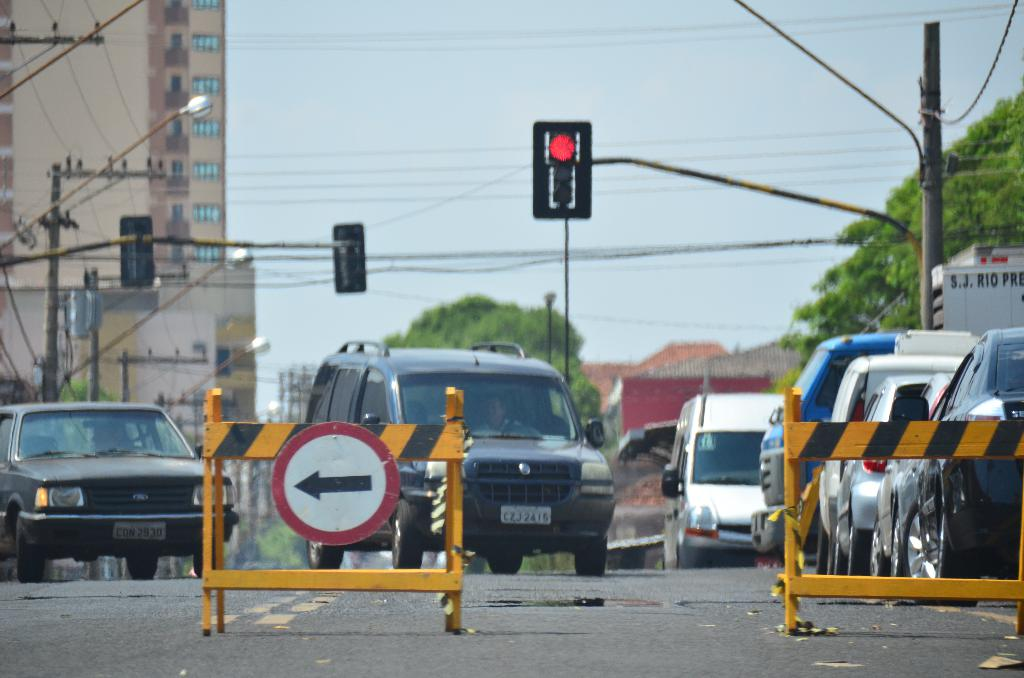red_light: (541, 128, 587, 207)
